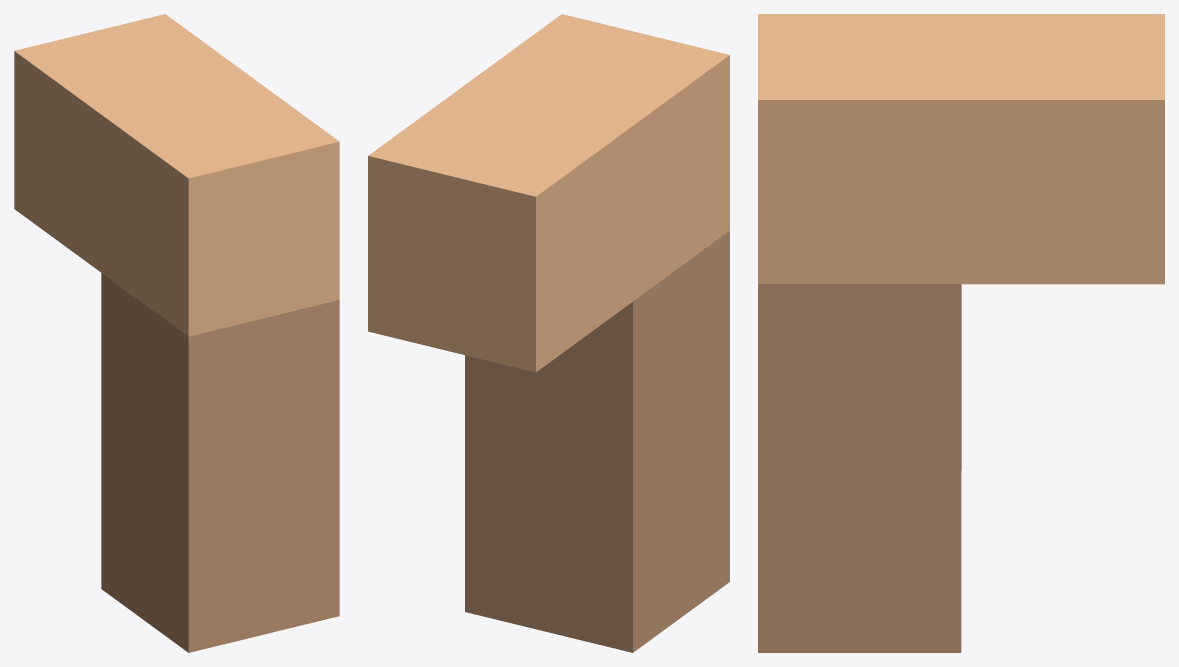
File: ginger_legend-3.fbx
The picture shows the model from 3 angles, left to right: view 1: azimuth 30°, elevation 25°; view 2: azimuth 150°, elevation 25°; view 3: azimuth 270°, elevation 25°; orthographic projection. The views are drawn at different scales.
Visible parts, largest first — view 1: ginger_legend-3.001; view 2: ginger_legend-3.001; view 3: ginger_legend-3.001.
Boxes of the visible parts, bbox=[...] form: ginger_legend-3.001: bbox=[14, 14, 339, 652]; ginger_legend-3.001: bbox=[368, 14, 729, 652]; ginger_legend-3.001: bbox=[758, 14, 1164, 652].
Size of the model in its own units: 0.1 by 0.3 by 0.2.
Materials: 1 (1 with a texture image).
